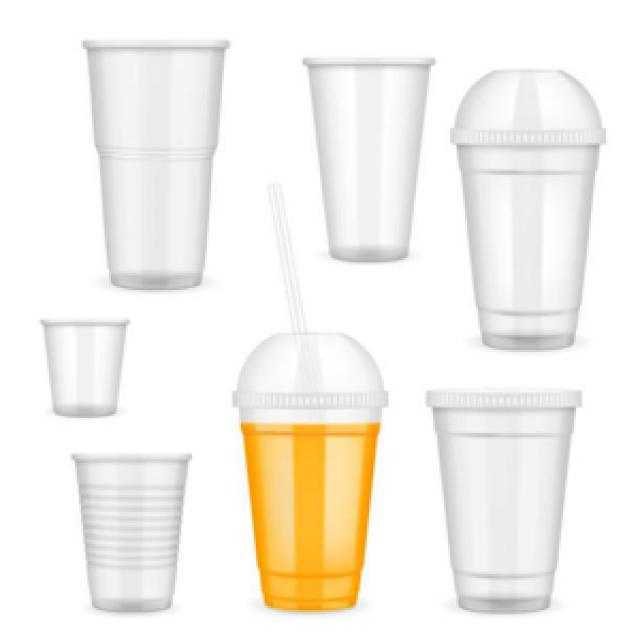plastic cup: (224, 324, 395, 621), (448, 56, 610, 360), (77, 34, 232, 297), (420, 384, 587, 617), (296, 51, 439, 265), (66, 446, 196, 621), (39, 312, 132, 424)
